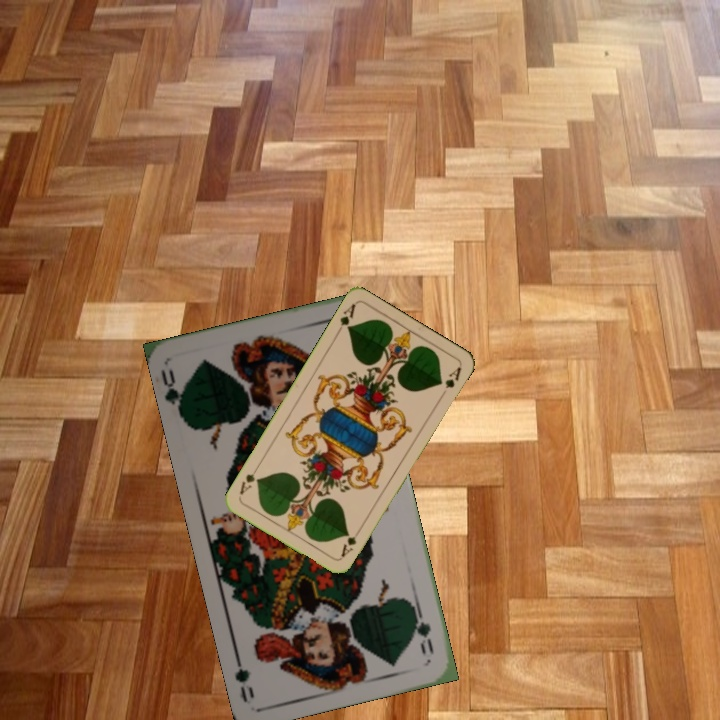GA: (332, 299, 358, 337), (337, 524, 364, 560)
GO: (156, 365, 188, 421), (406, 601, 437, 658)
